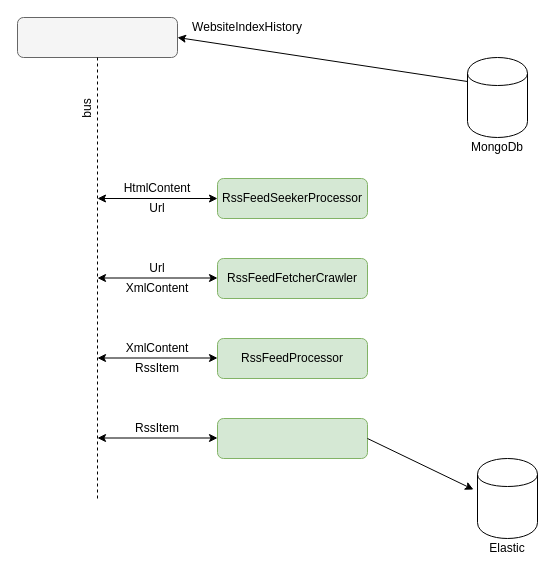
This 555x576 diagram has some shape labels left out. Each missing label, with the centre of its shape:
"FindAndIndexRssFeeds" goes at [97,37].
"RssItemElasticPersistor" goes at [292,438].
